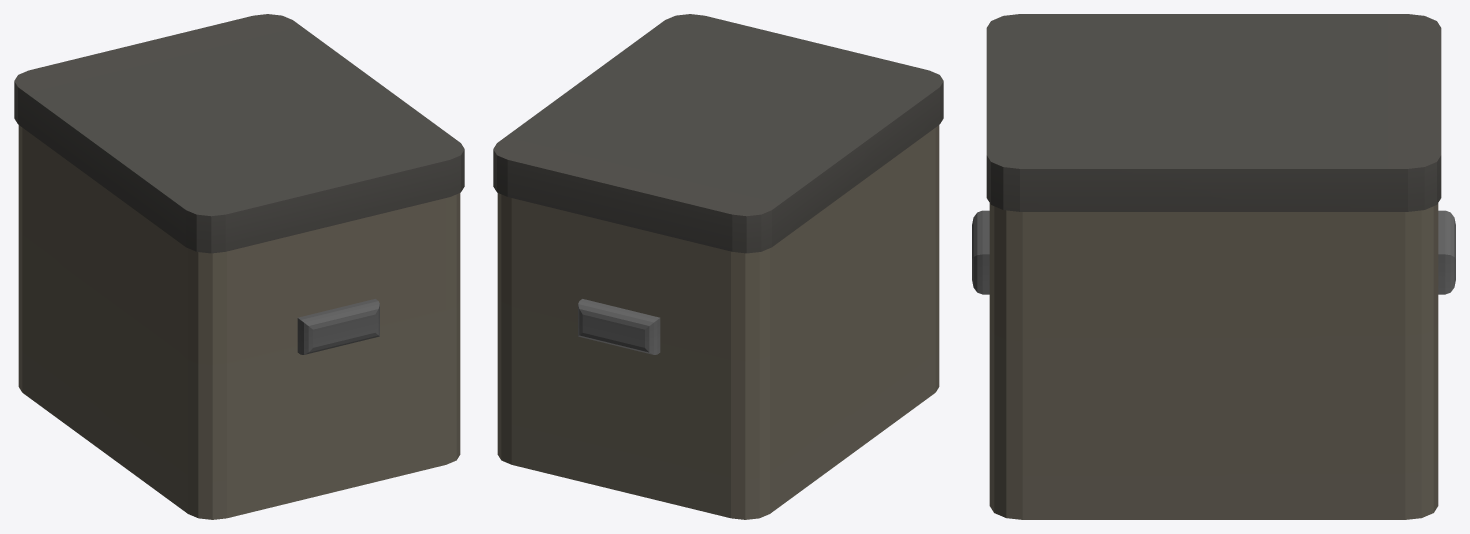
File: Paperholdingbox_v5.fbx
3 renders of one model, left to right at view 1: azimuth 30°, elevation 25°; view 2: azimuth 150°, elevation 25°; view 3: azimuth 270°, elevation 25°, orthographic. The views are drawn at different scales.
Visible parts, largest first — view 1: Paperholdingbox_v5; view 2: Paperholdingbox_v5; view 3: Paperholdingbox_v5.
Boxes of the visible parts, <box> form: Paperholdingbox_v5: <box>14,14,464,519</box>; Paperholdingbox_v5: <box>493,14,943,519</box>; Paperholdingbox_v5: <box>972,14,1455,519</box>.
Bounding box in the file's own units: 33.6 × 35.68 × 44.34.
